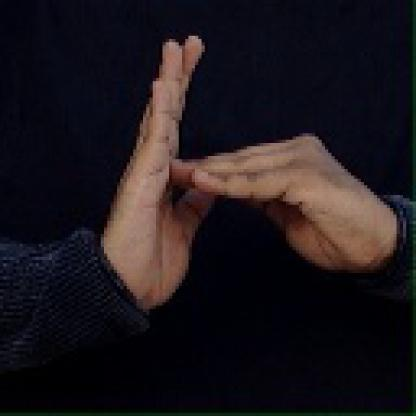Z: (101, 30, 362, 290)
